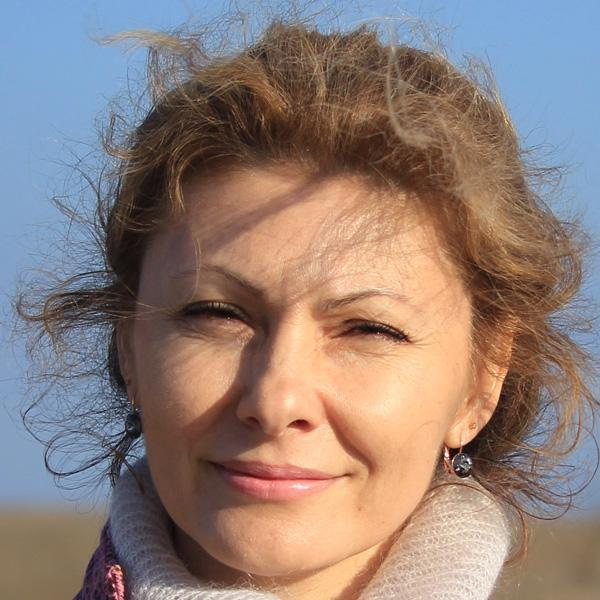Eyes: (169, 288, 265, 345), (321, 305, 422, 359)
